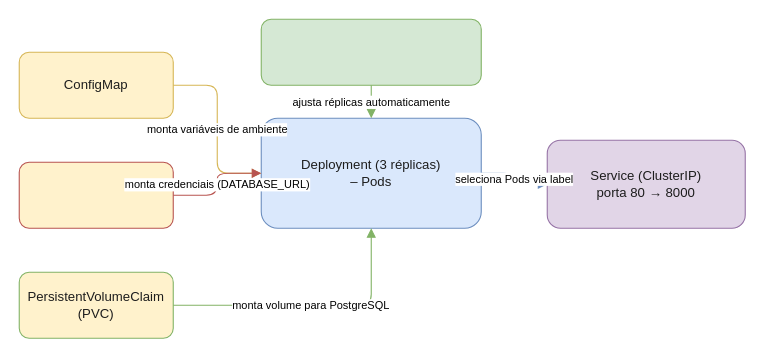
The diagram is 765 pixels wide and 358 high, and some of its shapes have lost their labels. Each missing label, with the box of its shape:
HPA (CPU ≥ 50 %) réplicas 2→10: (260, 18, 481, 85)
Secret: (18, 161, 173, 228)
